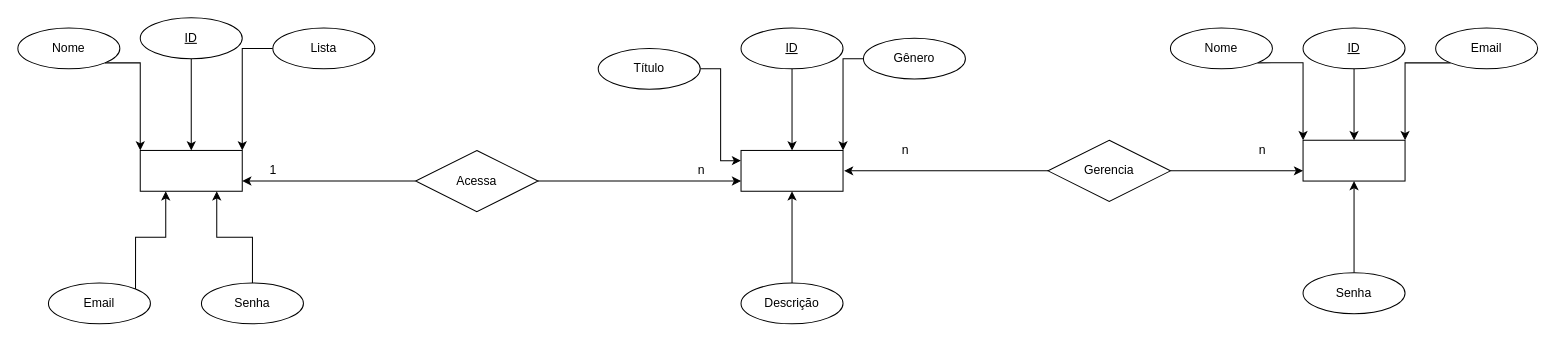
Some shapes in this 1556 by 342 pixel diagram are drawn without their labels. Here are the shapes that lost their labels. From the top down, the centre of each, then its label:
At [190,170]: "Usuário".
At [791,170]: "Vídeo".
At [1353,160]: "Admin.".
